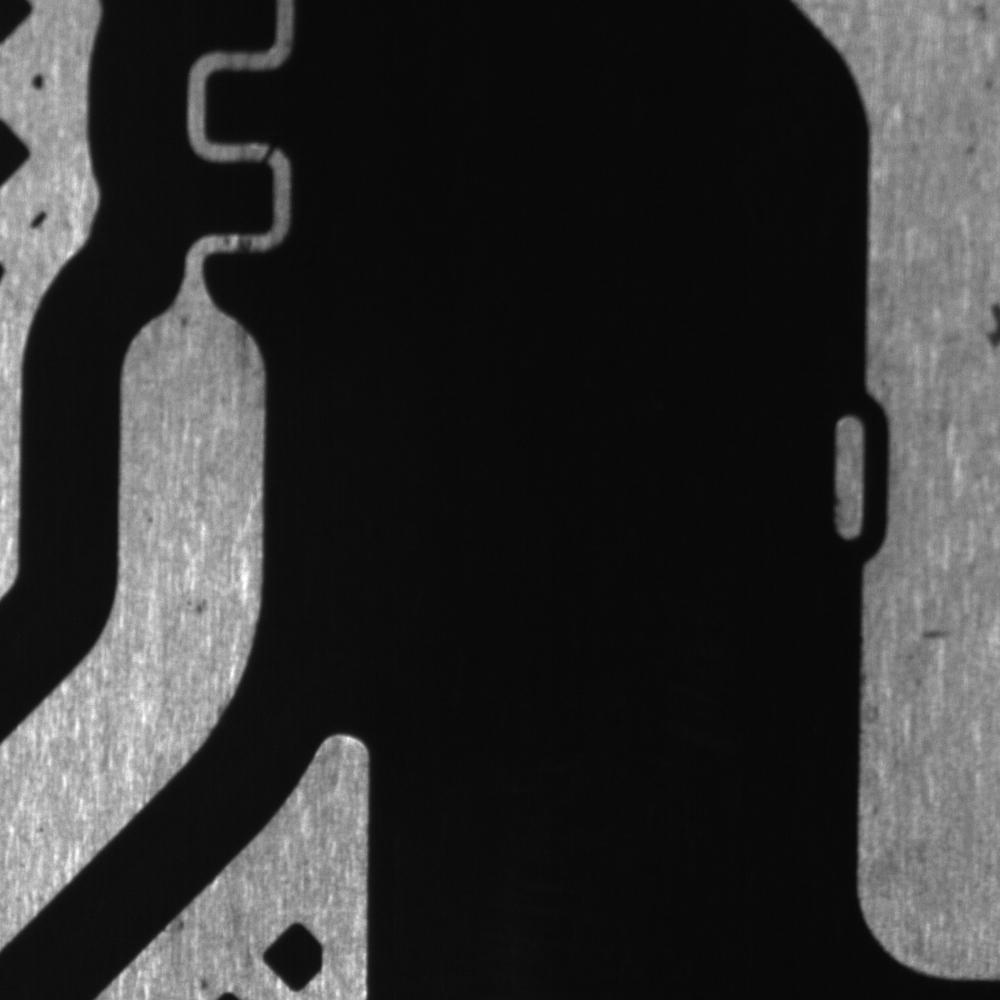Etching: (228, 325, 259, 403), (173, 589, 220, 624), (166, 306, 197, 340)
